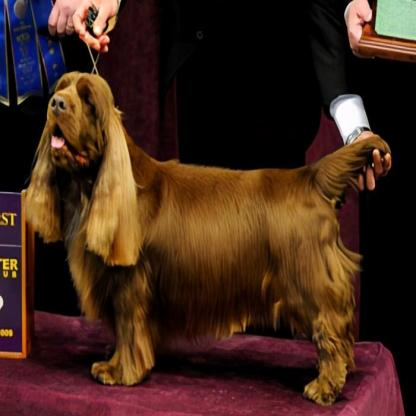dog: (22, 72, 384, 406)
